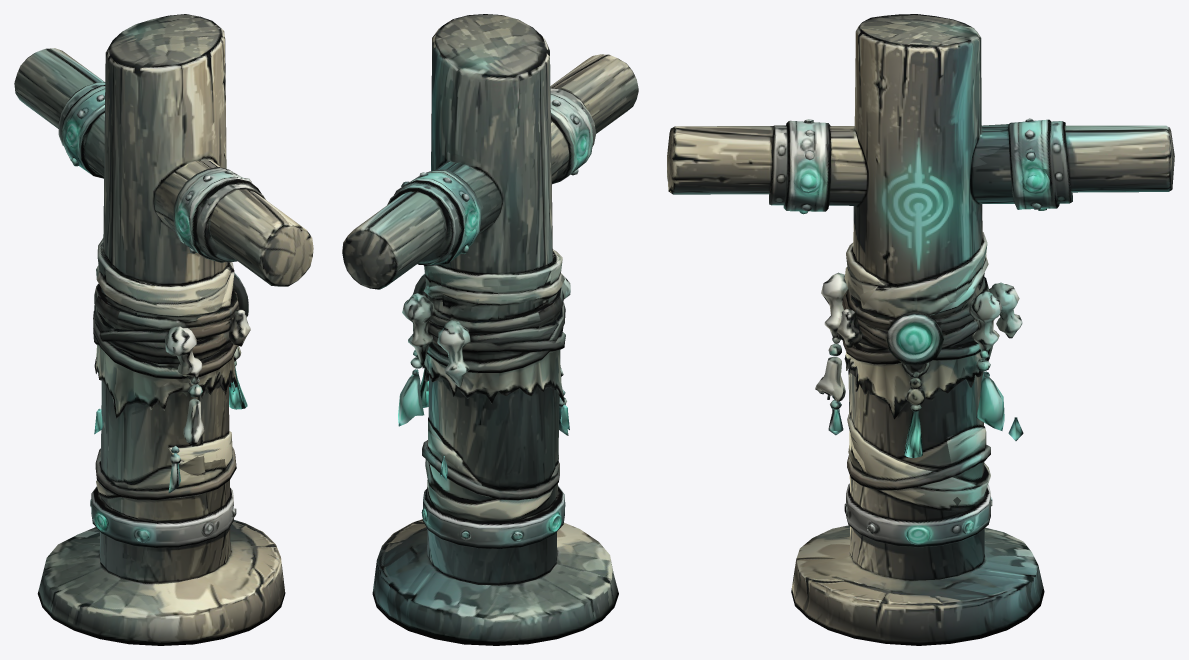
The model's file is woodenStake.fbx.
3 renders of one model, left to right at view 1: azimuth 30°, elevation 25°; view 2: azimuth 150°, elevation 25°; view 3: azimuth 270°, elevation 25°, orthographic. The views are drawn at different scales.
Visible parts, largest first — view 1: tripo_node_6a6a7ff7; view 2: tripo_node_6a6a7ff7; view 3: tripo_node_6a6a7ff7.
Boxes of the visible parts, box(x1,y1,x2,y2) form: tripo_node_6a6a7ff7: box(14, 14, 313, 645); tripo_node_6a6a7ff7: box(342, 14, 638, 645); tripo_node_6a6a7ff7: box(667, 14, 1174, 645).
Size of the model in its own units: 0.4004 by 0.998 by 0.7988.
